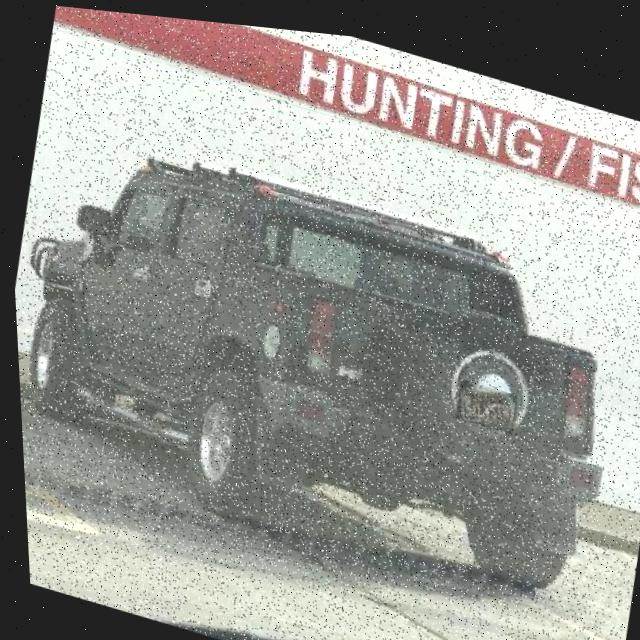LicensePlate: (456, 380, 511, 414)
